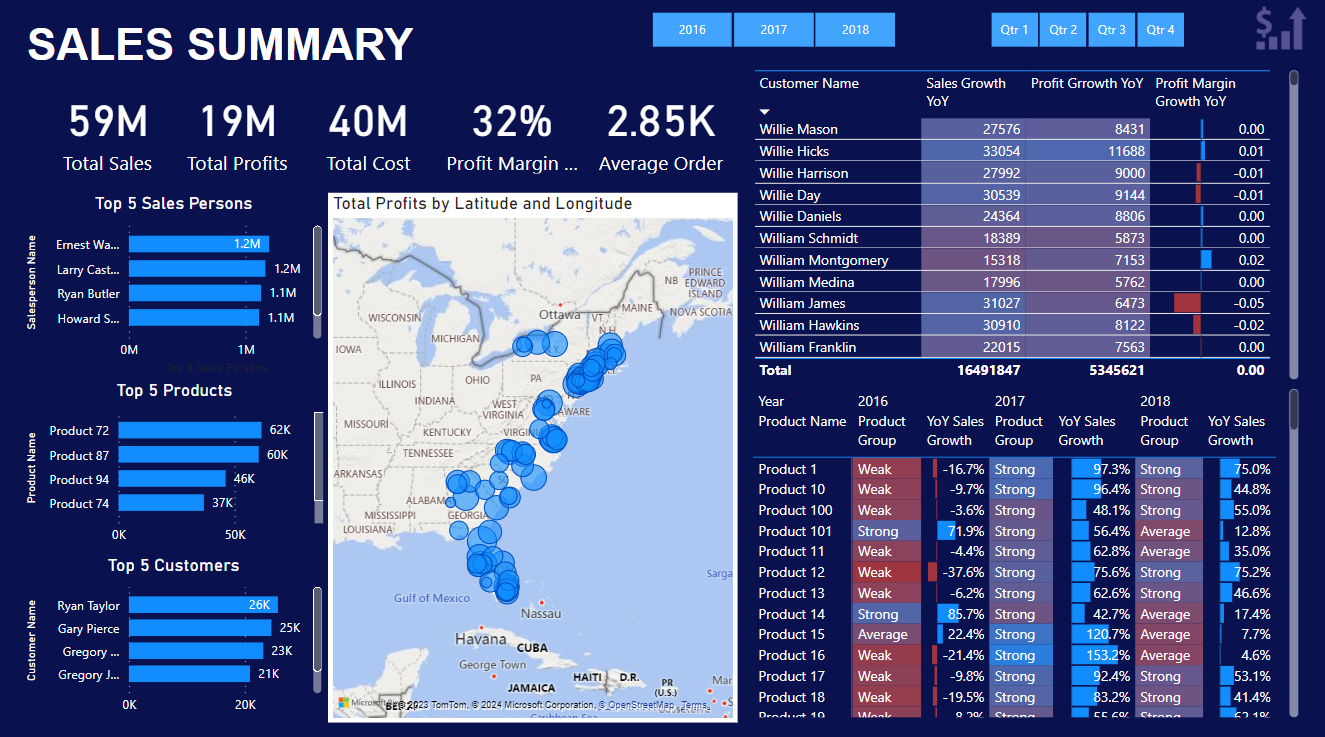

What the dashboard file says about the page in this screenshot:
{"tool":"powerbi","page":{"name":"Sales Summary","canvas":[1280,720],"ordinal":3},"visuals":[{"type":"barChart","title":"Top 5 Customers","fields":{"Category":["Customer Data.Customer Name"],"Y":["Key Calculations.Top 5 Customers"]},"box":[21.2,540.2,295.7,163.4],"z":0},{"type":"slicer","fields":{"Values":["Dates.Year"]},"box":[605.7,11.2,284.3,47.2],"z":1000},{"type":"slicer","fields":{"Values":["Dates.Date.Variation.Date Hierarchy.Quarter"]},"box":[932.2,11.2,235.8,47.2],"z":2000},{"type":"textbox","box":[22.5,18.8,493.5,73.9],"z":3000},{"type":"tableEx","fields":{"Values":["Customer Data.Customer Name","Time Intelligence Functions.Sales TY vs LY","Time Intelligence Functions.Profit TY Vs LY","Time Intelligence Functions.Profit Margin TY Vs LY"]},"box":[723.6,68.6,536.5,308.1],"z":4000},{"type":"barChart","title":"Top 5 Products","fields":{"Category":["Product.Product Name"],"Y":["Key Calculations.Top 5 Products"]},"box":[21.2,371.8,296.9,168.4],"z":5000},{"type":"barChart","title":"Top 5 Sales Persons","fields":{"Category":["Sales Person.Salesperson Name"],"Y":["Key Calculations.Top 5 Sales Persons"]},"box":[21.2,192.1,295.7,179.6],"z":6000},{"type":"pivotTable","fields":{"Rows":["Product.Product Name"],"Values":["Time Intelligence Functions.Product Group","Time Intelligence Functions.YoY Sales Growth"],"Columns":["Dates.Year"]},"box":[723.6,376.8,536.5,326.9],"z":7000},{"type":"card","fields":{"Values":["Key Calculations.Total Sales"]},"box":[42.4,82.3,127.3,96.1],"z":8000},{"type":"card","fields":{"Values":["Key Calculations.Total Profits"]},"box":[157.2,82.3,148.5,96.1],"z":9000},{"type":"card","fields":{"Values":["Key Calculations.Total Cost"]},"box":[283.2,82.3,148.5,96.1],"z":10000},{"type":"card","fields":{"Values":["Key Calculations.Profit Margin %age"]},"box":[421.7,82.3,148.5,96.1],"z":11000},{"type":"card","fields":{"Values":["Key Calculations.Average Order"]},"box":[565.1,82.3,148.5,96.1],"z":12000},{"type":"map","fields":{"Y":["Location.Latitude"],"X":["Location.Longitude"],"Size":["Key Calculations.Total Profits"]},"box":[318.1,192.1,395.5,511.5],"z":13000},{"type":"image","box":[1197.8,0,81.9,65.8],"z":14000}]}

Visuals, with their boxes in screenshot pixels (x1, y1, x2, y2), scaled from the page's 1280x720 canvas onto the 1325x737 screenshot:
"Top 5 Customers" barChart: {"x1": 22, "y1": 553, "x2": 328, "y2": 720}
slicer - Dates.Year: {"x1": 627, "y1": 11, "x2": 921, "y2": 60}
slicer - Dates.Date.Variation.Date Hierarchy.Quarter: {"x1": 965, "y1": 11, "x2": 1209, "y2": 60}
textbox: {"x1": 23, "y1": 19, "x2": 534, "y2": 95}
tableEx - Customer Data.Customer Name x Time Intelligence Functions.Sales TY vs LY: {"x1": 749, "y1": 70, "x2": 1304, "y2": 386}
"Top 5 Products" barChart: {"x1": 22, "y1": 381, "x2": 329, "y2": 553}
"Top 5 Sales Persons" barChart: {"x1": 22, "y1": 197, "x2": 328, "y2": 380}
pivotTable - Product.Product Name x Time Intelligence Functions.Product Group: {"x1": 749, "y1": 386, "x2": 1304, "y2": 720}
card - Key Calculations.Total Sales: {"x1": 44, "y1": 84, "x2": 176, "y2": 183}
card - Key Calculations.Total Profits: {"x1": 163, "y1": 84, "x2": 316, "y2": 183}
card - Key Calculations.Total Cost: {"x1": 293, "y1": 84, "x2": 447, "y2": 183}
card - Key Calculations.Profit Margin %age: {"x1": 437, "y1": 84, "x2": 590, "y2": 183}
card - Key Calculations.Average Order: {"x1": 585, "y1": 84, "x2": 739, "y2": 183}
map - Location.Latitude x Location.Longitude: {"x1": 329, "y1": 197, "x2": 739, "y2": 720}
image: {"x1": 1240, "y1": 0, "x2": 1324, "y2": 67}
